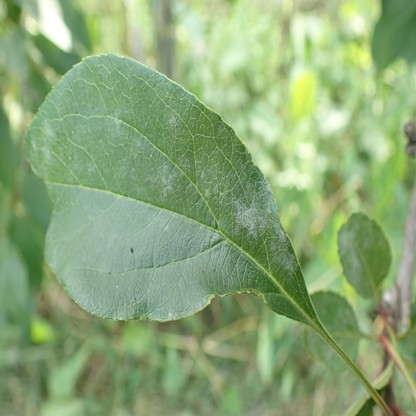powder: (199, 125, 300, 273), (60, 122, 94, 174), (338, 220, 363, 287), (117, 161, 145, 194), (157, 164, 178, 195), (47, 218, 59, 267), (42, 117, 56, 138), (364, 220, 374, 248), (114, 109, 125, 128), (324, 346, 333, 362), (43, 146, 52, 161), (30, 135, 38, 149), (167, 115, 176, 124)
